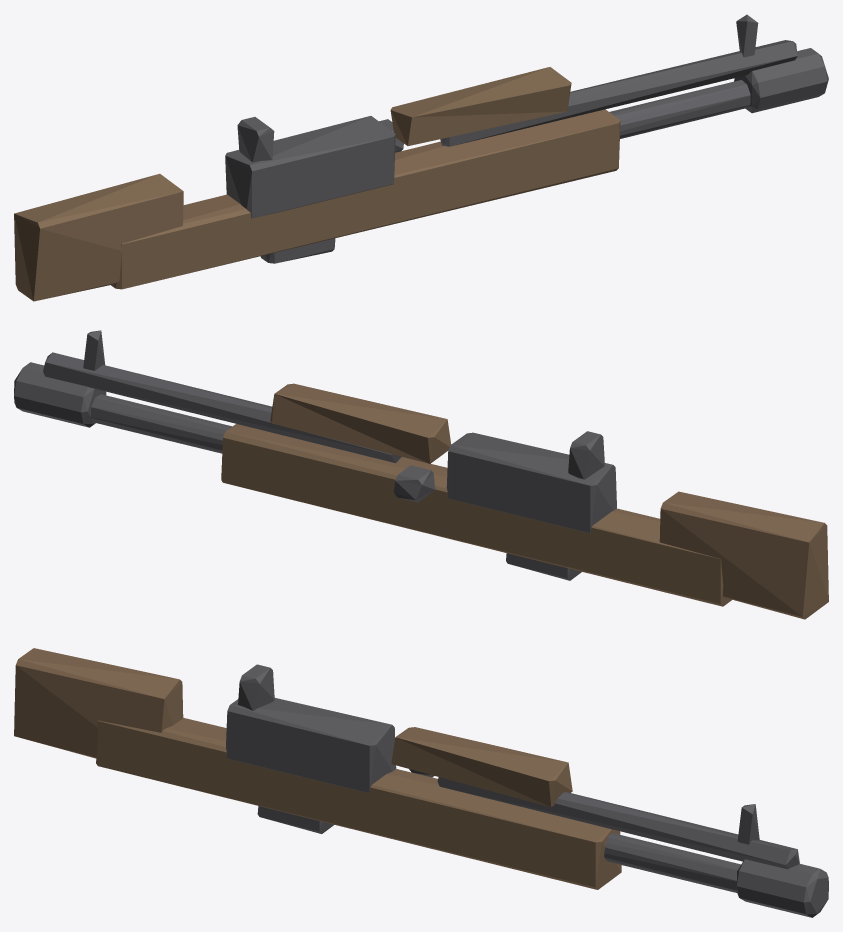
File: weapon_rifle_us_ww2.lod1.glb
The picture shows the model from 3 angles, top to bottom: view 1: azimuth 30°, elevation 25°; view 2: azimuth 150°, elevation 25°; view 3: azimuth 330°, elevation 25°; orthographic projection.
Bounding box in the file's own units: 1.17 × 0.1975 × 0.1095.
